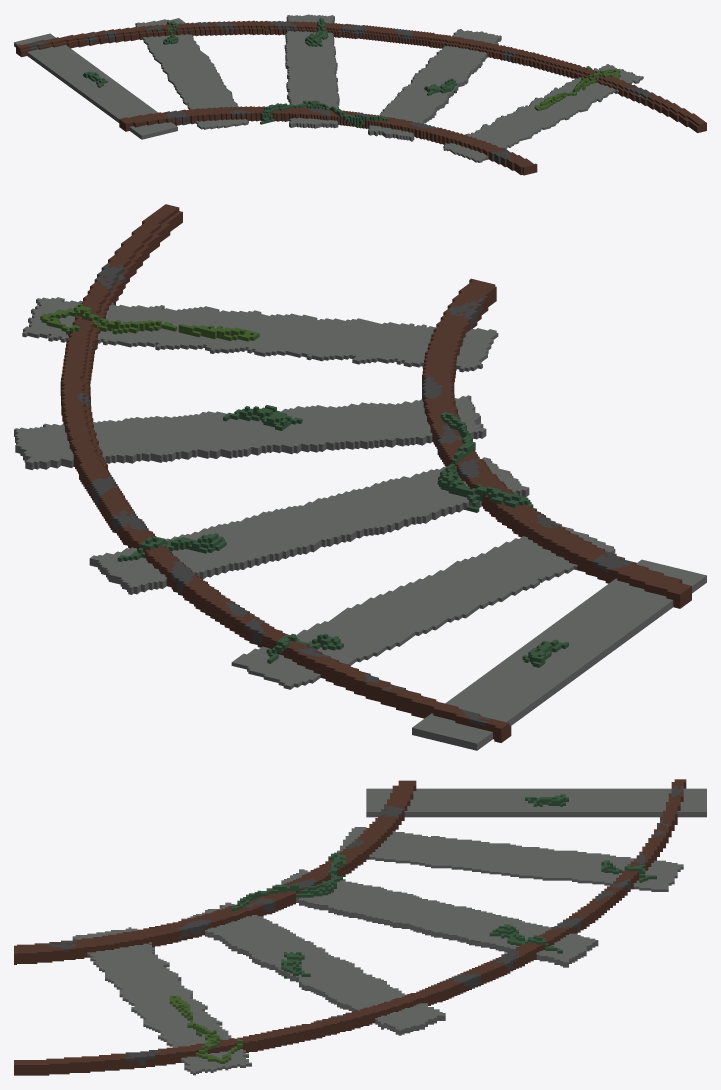
File: track2.FBX
3 views of the same model, one above another, from view 1: azimuth 30°, elevation 25°; view 2: azimuth 150°, elevation 25°; view 3: azimuth 270°, elevation 25° (orthographic). The views are drawn at different scales.
Parts seen in each view (by area): view 1: track2; view 2: track2; view 3: track2.
Part boxes in pixels (x1,y1,x2,y2): track2: [14, 14, 706, 175]; track2: [14, 204, 706, 750]; track2: [14, 779, 706, 1075].
Bounding box in the file's own units: 23.2 × 0.6 × 23.6.
1 material, 1 textured.
